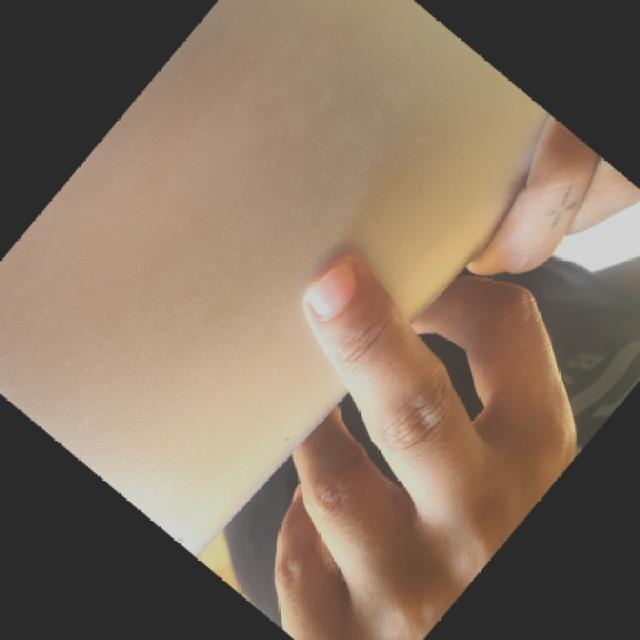Nail: (309, 262, 356, 317)
